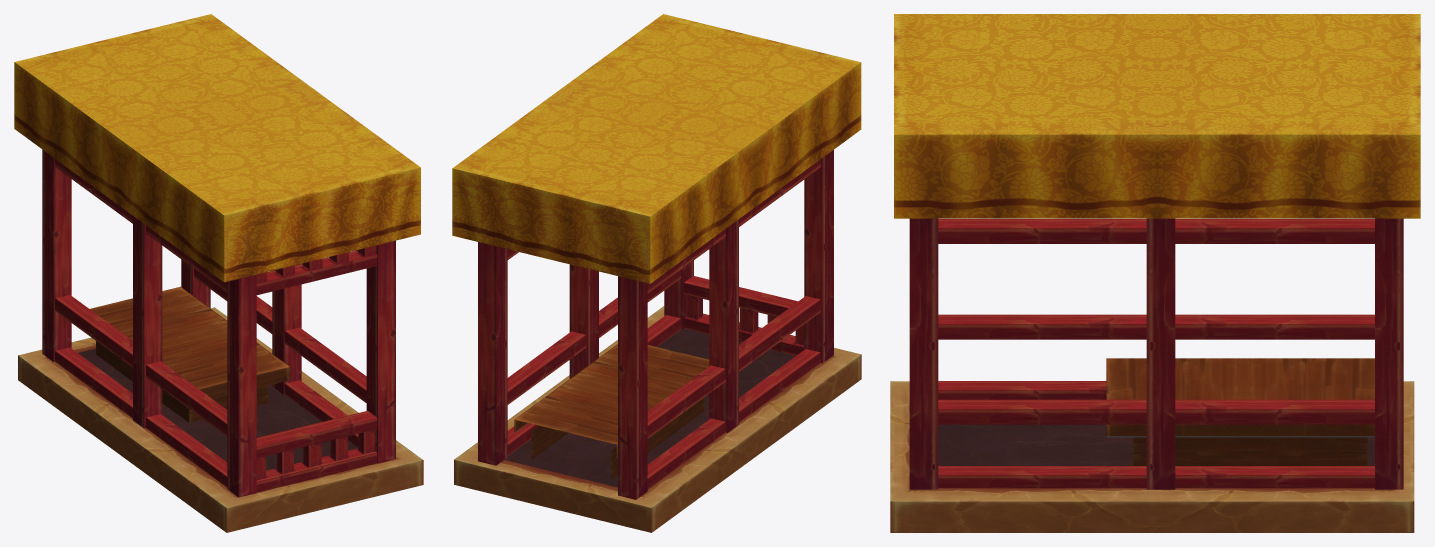
The model's file is Stage_01_02_PengZi.FBX.
3 renders of one model, left to right at view 1: azimuth 30°, elevation 25°; view 2: azimuth 150°, elevation 25°; view 3: azimuth 270°, elevation 25°, orthographic. The views are drawn at different scales.
Visible parts, largest first — view 1: Stage_01_02_PengZi; view 2: Stage_01_02_PengZi; view 3: Stage_01_02_PengZi.
Boxes of the visible parts, box(x1,y1,x2,y2) form: Stage_01_02_PengZi: box(14, 14, 423, 532); Stage_01_02_PengZi: box(452, 14, 861, 532); Stage_01_02_PengZi: box(890, 14, 1420, 532).
Size of the model in its own units: 426 by 652 by 788.
